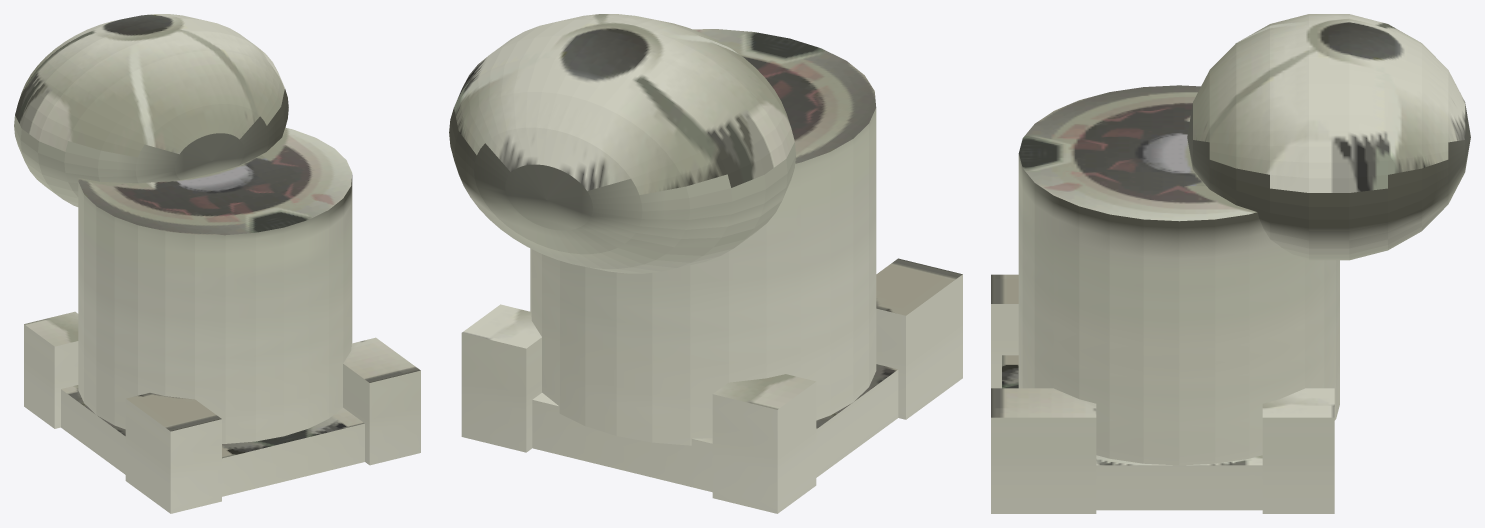
File: Building_AncientMechGestatorTank.glb
3 views of the same model, side by side, from view 1: azimuth 30°, elevation 25°; view 2: azimuth 150°, elevation 25°; view 3: azimuth 270°, elevation 25° (orthographic). The views are drawn at different scales.
Visible parts, largest first — view 1: AncientMechGestatorTank; view 2: AncientMechGestatorTank; view 3: AncientMechGestatorTank.
Part boxes in pixels (x1,y1,x2,y2): AncientMechGestatorTank: [14, 14, 420, 513]; AncientMechGestatorTank: [449, 14, 962, 513]; AncientMechGestatorTank: [991, 14, 1470, 513].
Bounding box in the file's own units: 0.9531 × 1.27 × 1.35.
1 material, 1 textured.
